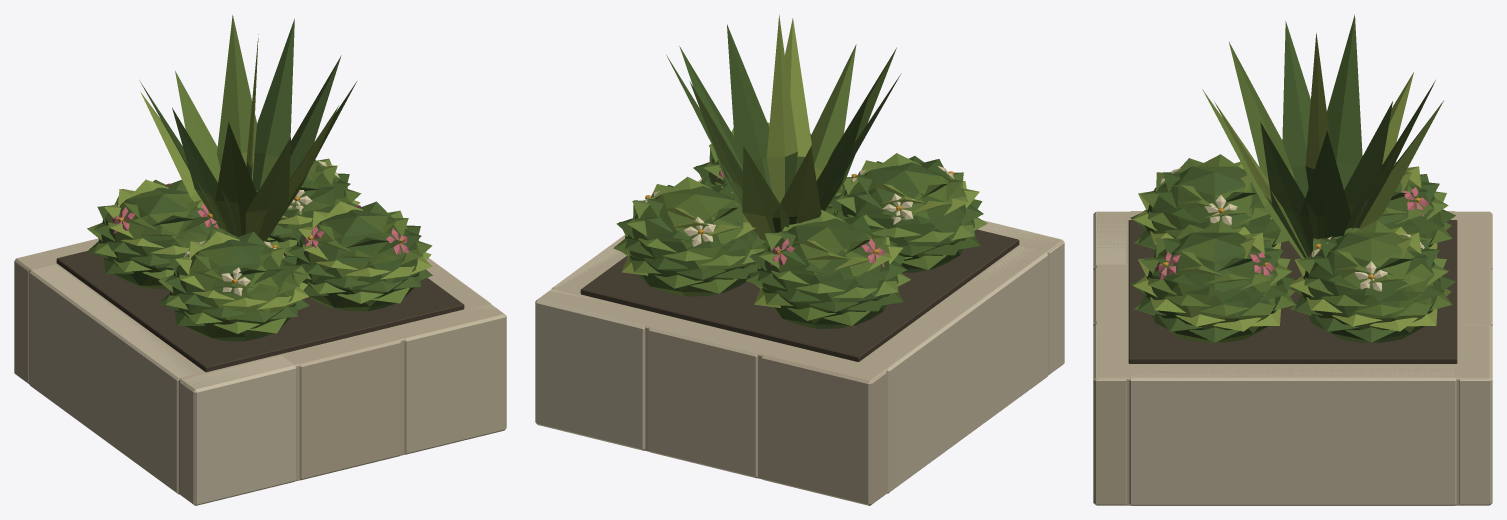
The model's file is planter_square.glb.
3 views of the same model, side by side, from view 1: azimuth 30°, elevation 25°; view 2: azimuth 150°, elevation 25°; view 3: azimuth 270°, elevation 25° (orthographic). The views are drawn at different scales.
Parts seen in each view (by area): view 1: body; view 2: body; view 3: body.
Part boxes in pixels (left/top/right/bottom): body: left=14, top=15, right=506, bottom=505; body: left=535, top=14, right=1064, bottom=505; body: left=1093, top=14, right=1492, bottom=505.
Size of the model in its own units: 1.3 by 1.42 by 1.3.
